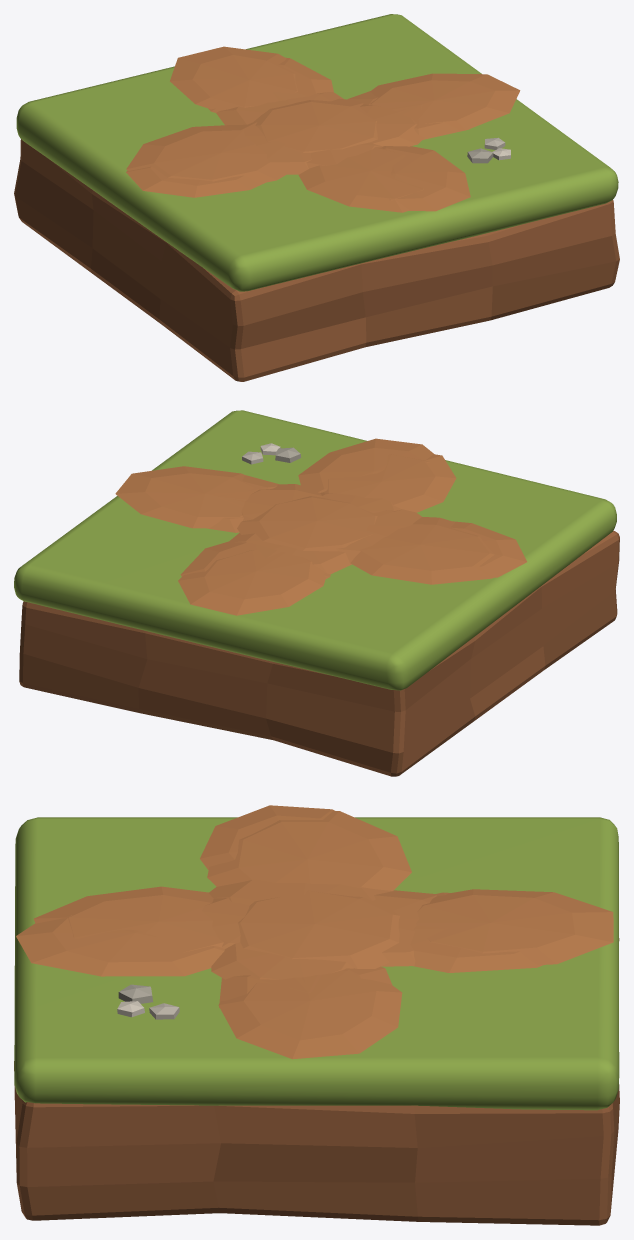
The model's file is tile_dirt_crossroad.glb.
The picture shows the model from 3 angles, top to bottom: view 1: azimuth 30°, elevation 25°; view 2: azimuth 150°, elevation 25°; view 3: azimuth 270°, elevation 25°; orthographic projection. The views are drawn at different scales.
Visible parts, largest first — view 1: dirt_cross_cap, dirt_cross_body, dirt_cross_a_5, dirt_cross_b_1, dirt_cross_b_5, dirt_cross_mid, dirt_cross_a_1, dirt_cross_a_0, dirt_cross_b_0, dirt_cross_b_3, dirt_cross_b_2, dirt_cross_a_4 (+3 smaller); view 2: dirt_cross_cap, dirt_cross_body, dirt_cross_a_5, dirt_cross_b_1, dirt_cross_b_5, dirt_cross_mid, dirt_cross_a_1, dirt_cross_a_0, dirt_cross_b_0, dirt_cross_b_2, dirt_cross_b_3, dirt_cross_a_3 (+3 smaller); view 3: dirt_cross_cap, dirt_cross_body, dirt_cross_b_5, dirt_cross_a_5, dirt_cross_b_1, dirt_cross_mid, dirt_cross_a_0, dirt_cross_a_1, dirt_cross_a_4, dirt_cross_b_3, dirt_cross_b_0, dirt_cross_b_2 (+3 smaller).
Boxes of the visible parts, box(x1,y1,x2,y2) form: dirt_cross_cap: box(16, 14, 618, 291); dirt_cross_body: box(14, 139, 619, 381); dirt_cross_a_5: box(170, 46, 297, 110); dirt_cross_b_1: box(126, 125, 286, 183); dirt_cross_b_5: box(370, 73, 520, 131); dirt_cross_mid: box(253, 98, 377, 152); dirt_cross_a_1: box(298, 147, 423, 212); dirt_cross_a_0: box(382, 146, 470, 211); dirt_cross_b_0: box(126, 166, 265, 197); dirt_cross_b_3: box(360, 104, 424, 146); dirt_cross_b_2: box(228, 122, 311, 174); dirt_cross_a_4: box(208, 57, 333, 112); dirt_cross_cap: box(14, 410, 616, 690); dirt_cross_body: box(19, 530, 619, 776); dirt_cross_a_5: box(178, 550, 325, 615); dirt_cross_b_1: box(350, 517, 494, 584); dirt_cross_b_5: box(115, 466, 256, 528); dirt_cross_mid: box(237, 496, 377, 551); dirt_cross_a_1: box(323, 454, 456, 512); dirt_cross_a_0: box(298, 438, 434, 492); dirt_cross_b_0: box(451, 521, 526, 577); dirt_cross_b_2: box(336, 509, 421, 563); dirt_cross_b_3: box(241, 484, 321, 520); dirt_cross_a_3: box(229, 533, 351, 574); dirt_cross_cap: box(14, 817, 619, 1110); dirt_cross_body: box(14, 938, 619, 1225); dirt_cross_b_5: box(218, 969, 402, 1059); dirt_cross_a_5: box(416, 889, 613, 965); dirt_cross_b_1: box(207, 811, 411, 890); dirt_cross_mid: box(238, 890, 399, 968); dirt_cross_a_0: box(16, 915, 224, 976); dirt_cross_a_1: box(34, 886, 223, 952); dirt_cross_a_4: box(410, 892, 543, 972); dirt_cross_b_3: box(211, 942, 353, 979); dirt_cross_b_0: box(200, 805, 334, 869); dirt_cross_b_2: box(209, 879, 392, 905).
Size of the model in its own units: 1.71 by 0.5613 by 1.7.
